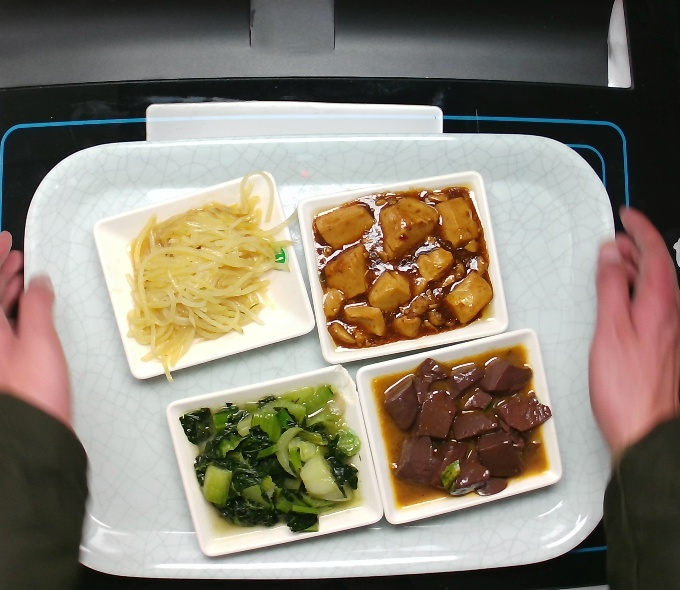wcq-MaPoDouFu: (308, 192, 490, 346)
wcq-NiuXue: (374, 355, 536, 501)
wcq-TuDouSi: (125, 196, 286, 367)
wcq-YouDongCai: (186, 394, 370, 540)
